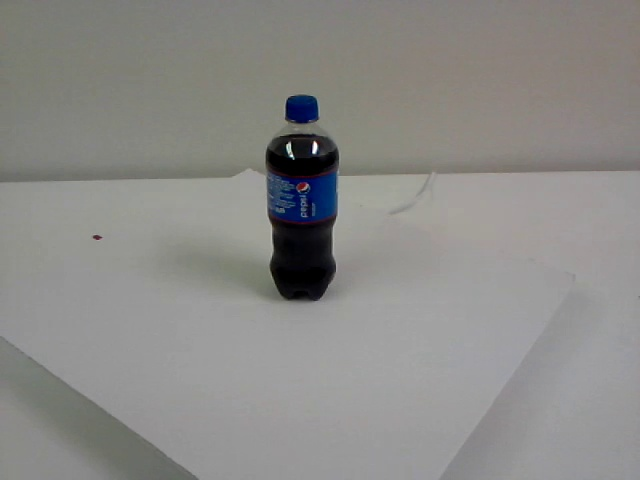botolplastik: (267, 95, 339, 299)
